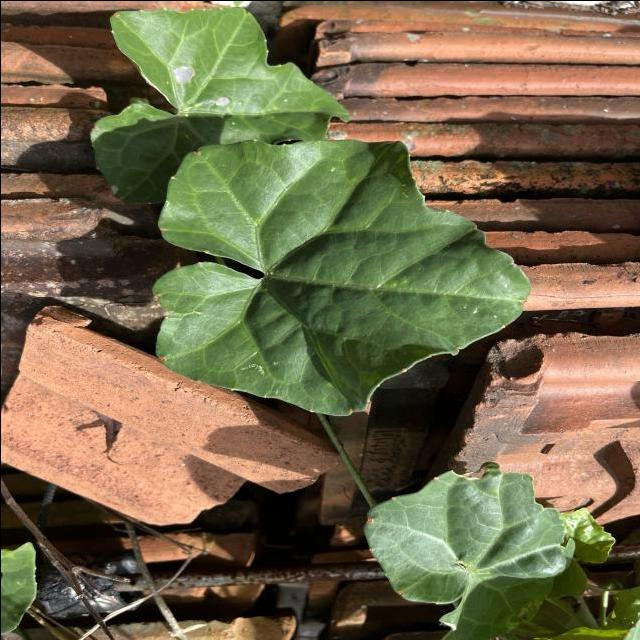Coccinia grandis: (149, 136, 533, 418)
